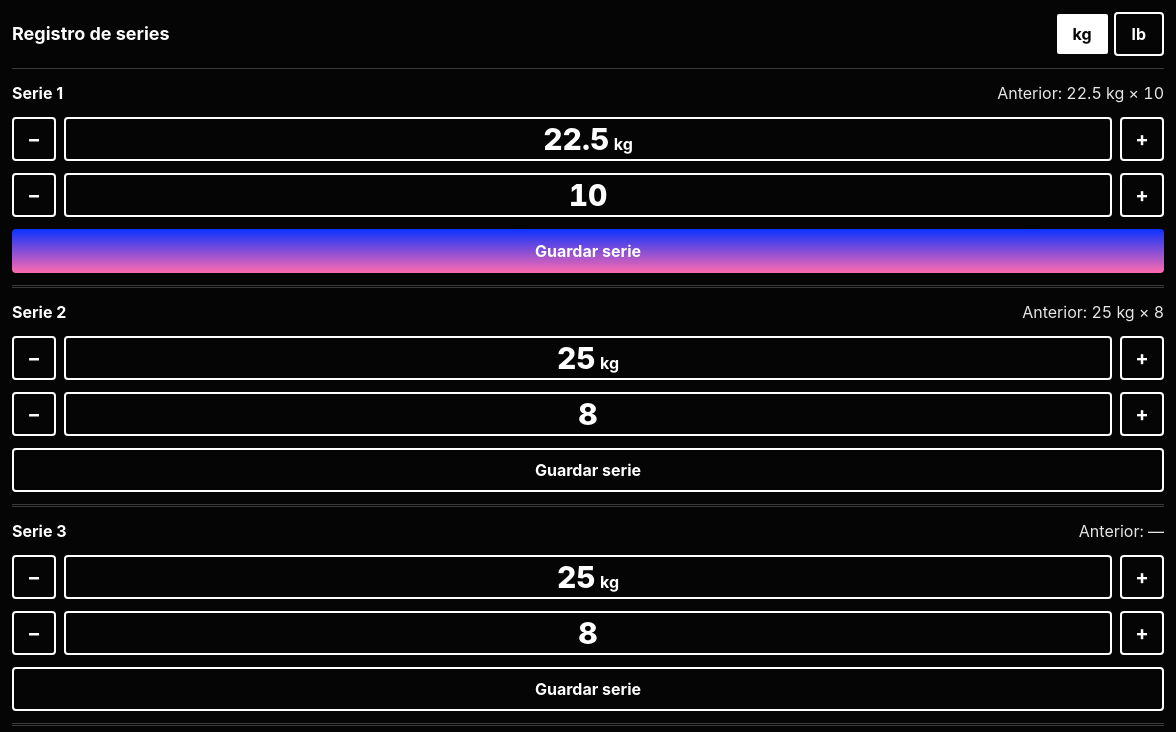
Test: LoggingSection — guardado (R5, R6, R7, R10) › R5: guardar inserta exactamente una fila con la fecha local y marca ✓
The width and height of the screenshot is (1176, 732).
Expected: the heading "Serie 1" is shown, [12,81,63,105]
Click the button named "Aumentar Peso serie 1".
click(1142, 139)  # box [1120,117,1164,161]
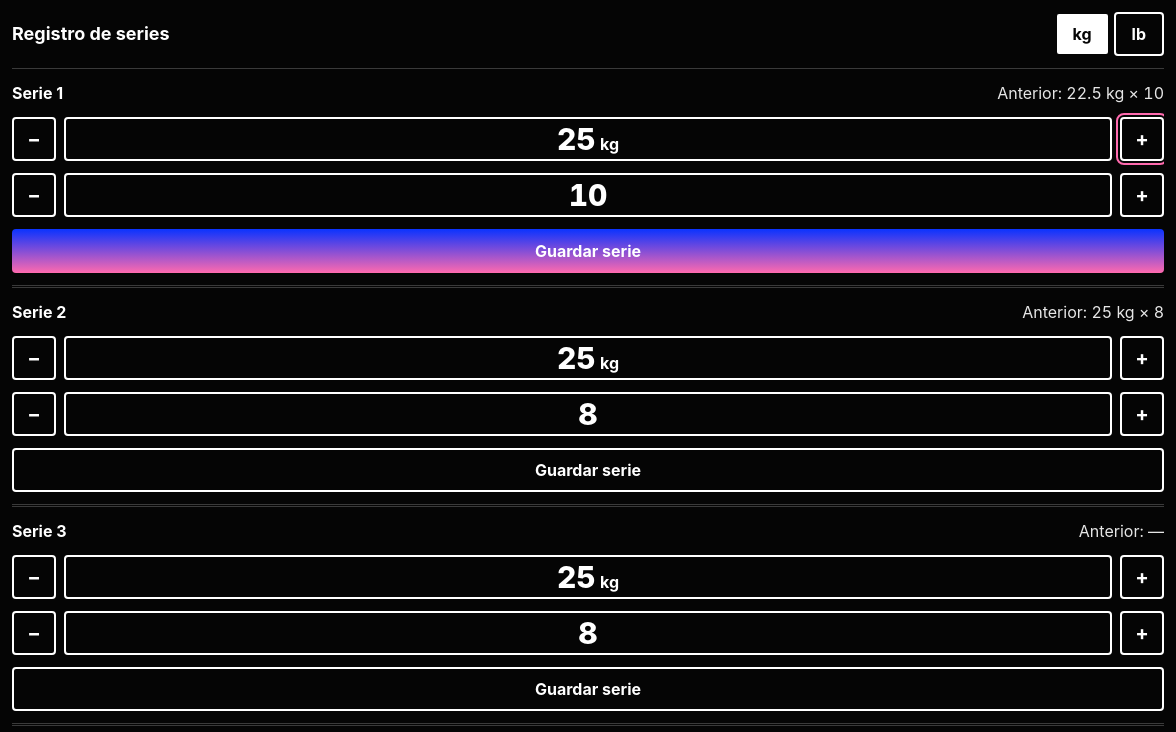
Click the button "Guardar serie" below "22.5 kg × 10".
click(588, 251)  # box [12,229,1164,273]
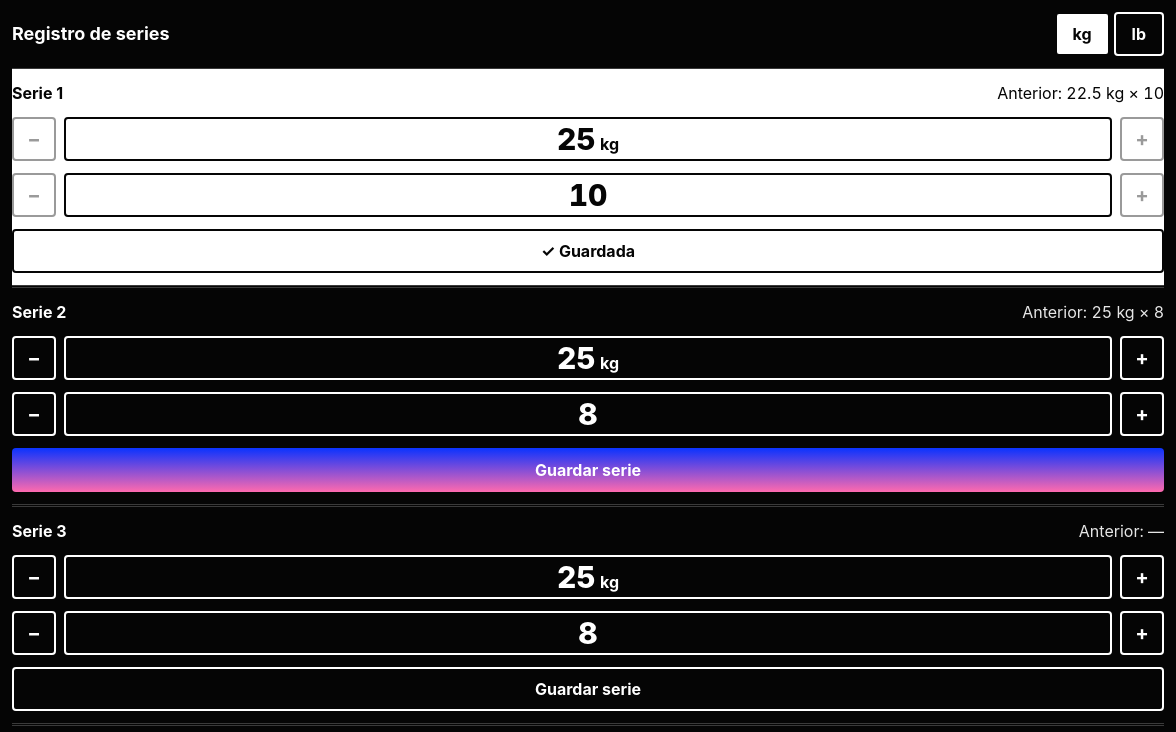
Expected: the button "✓ Guardada" is disabled, [12,229,1164,273]
